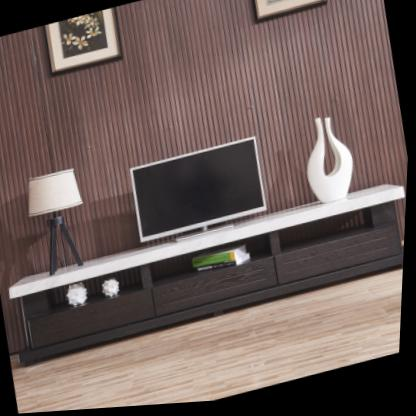Lamp: (23, 164, 98, 280)
TV stand: (1, 182, 409, 375)
Wall Panel: (0, 0, 415, 279)
Wooden floor: (15, 277, 406, 414)
